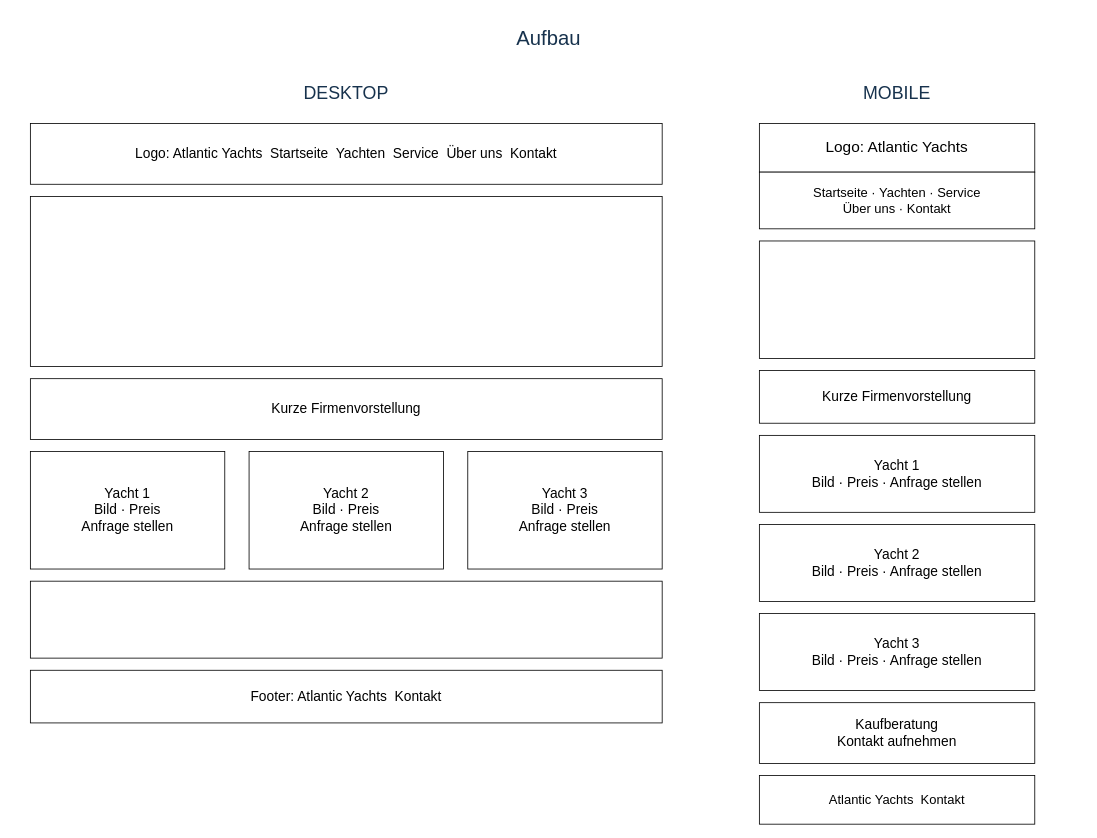
This 1097x838 diagram has some shape labels left out. The centre of each missing label's shape, as x and y in pixels:
"Grosses Yachtbild Deine Yacht. Dein Horizont. Button: Yachten entdecken" goes at (346,281).
"Persönliche Kaufberatung Button: Kontakt aufnehmen" goes at (346,619).
"Yachtbild Deine Yacht. Dein Horizont. Yachten entdecken" goes at (897,299).
